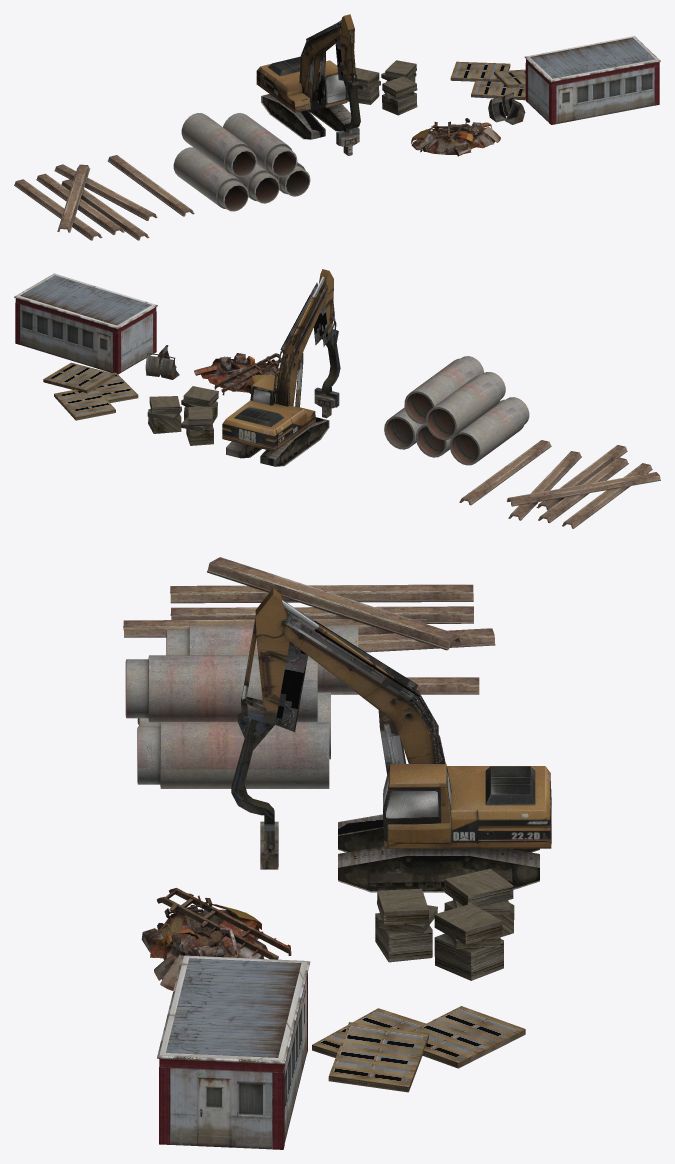
The model's file is construction-transformed.glb.
3 views of the same model, one above another, from view 1: azimuth 30°, elevation 25°; view 2: azimuth 150°, elevation 25°; view 3: azimuth 270°, elevation 25° (orthographic). The views are drawn at different scales.
Parts seen in each view (by area): view 1: Construction.007_Construction_Assets_0, Portable_Cabin.001_Portable_Cabin_0; view 2: Construction.007_Construction_Assets_0, Portable_Cabin.001_Portable_Cabin_0; view 3: Construction.007_Construction_Assets_0, Portable_Cabin.001_Portable_Cabin_0.
Boxes of the visible parts, x1=… form: Construction.007_Construction_Assets_0: x1=14, y1=14, x2=525, y2=240; Portable_Cabin.001_Portable_Cabin_0: x1=524, y1=36, x2=660, y2=124; Construction.007_Construction_Assets_0: x1=43, y1=269, x2=660, y2=528; Portable_Cabin.001_Portable_Cabin_0: x1=14, y1=273, x2=157, y2=374; Construction.007_Construction_Assets_0: x1=123, y1=557, x2=551, y2=1092; Portable_Cabin.001_Portable_Cabin_0: x1=157, y1=955, x2=310, y2=1149.
Size of the model in its own units: 41.33 by 9.2 by 12.93.
Materials: 2 (2 with a texture image).
